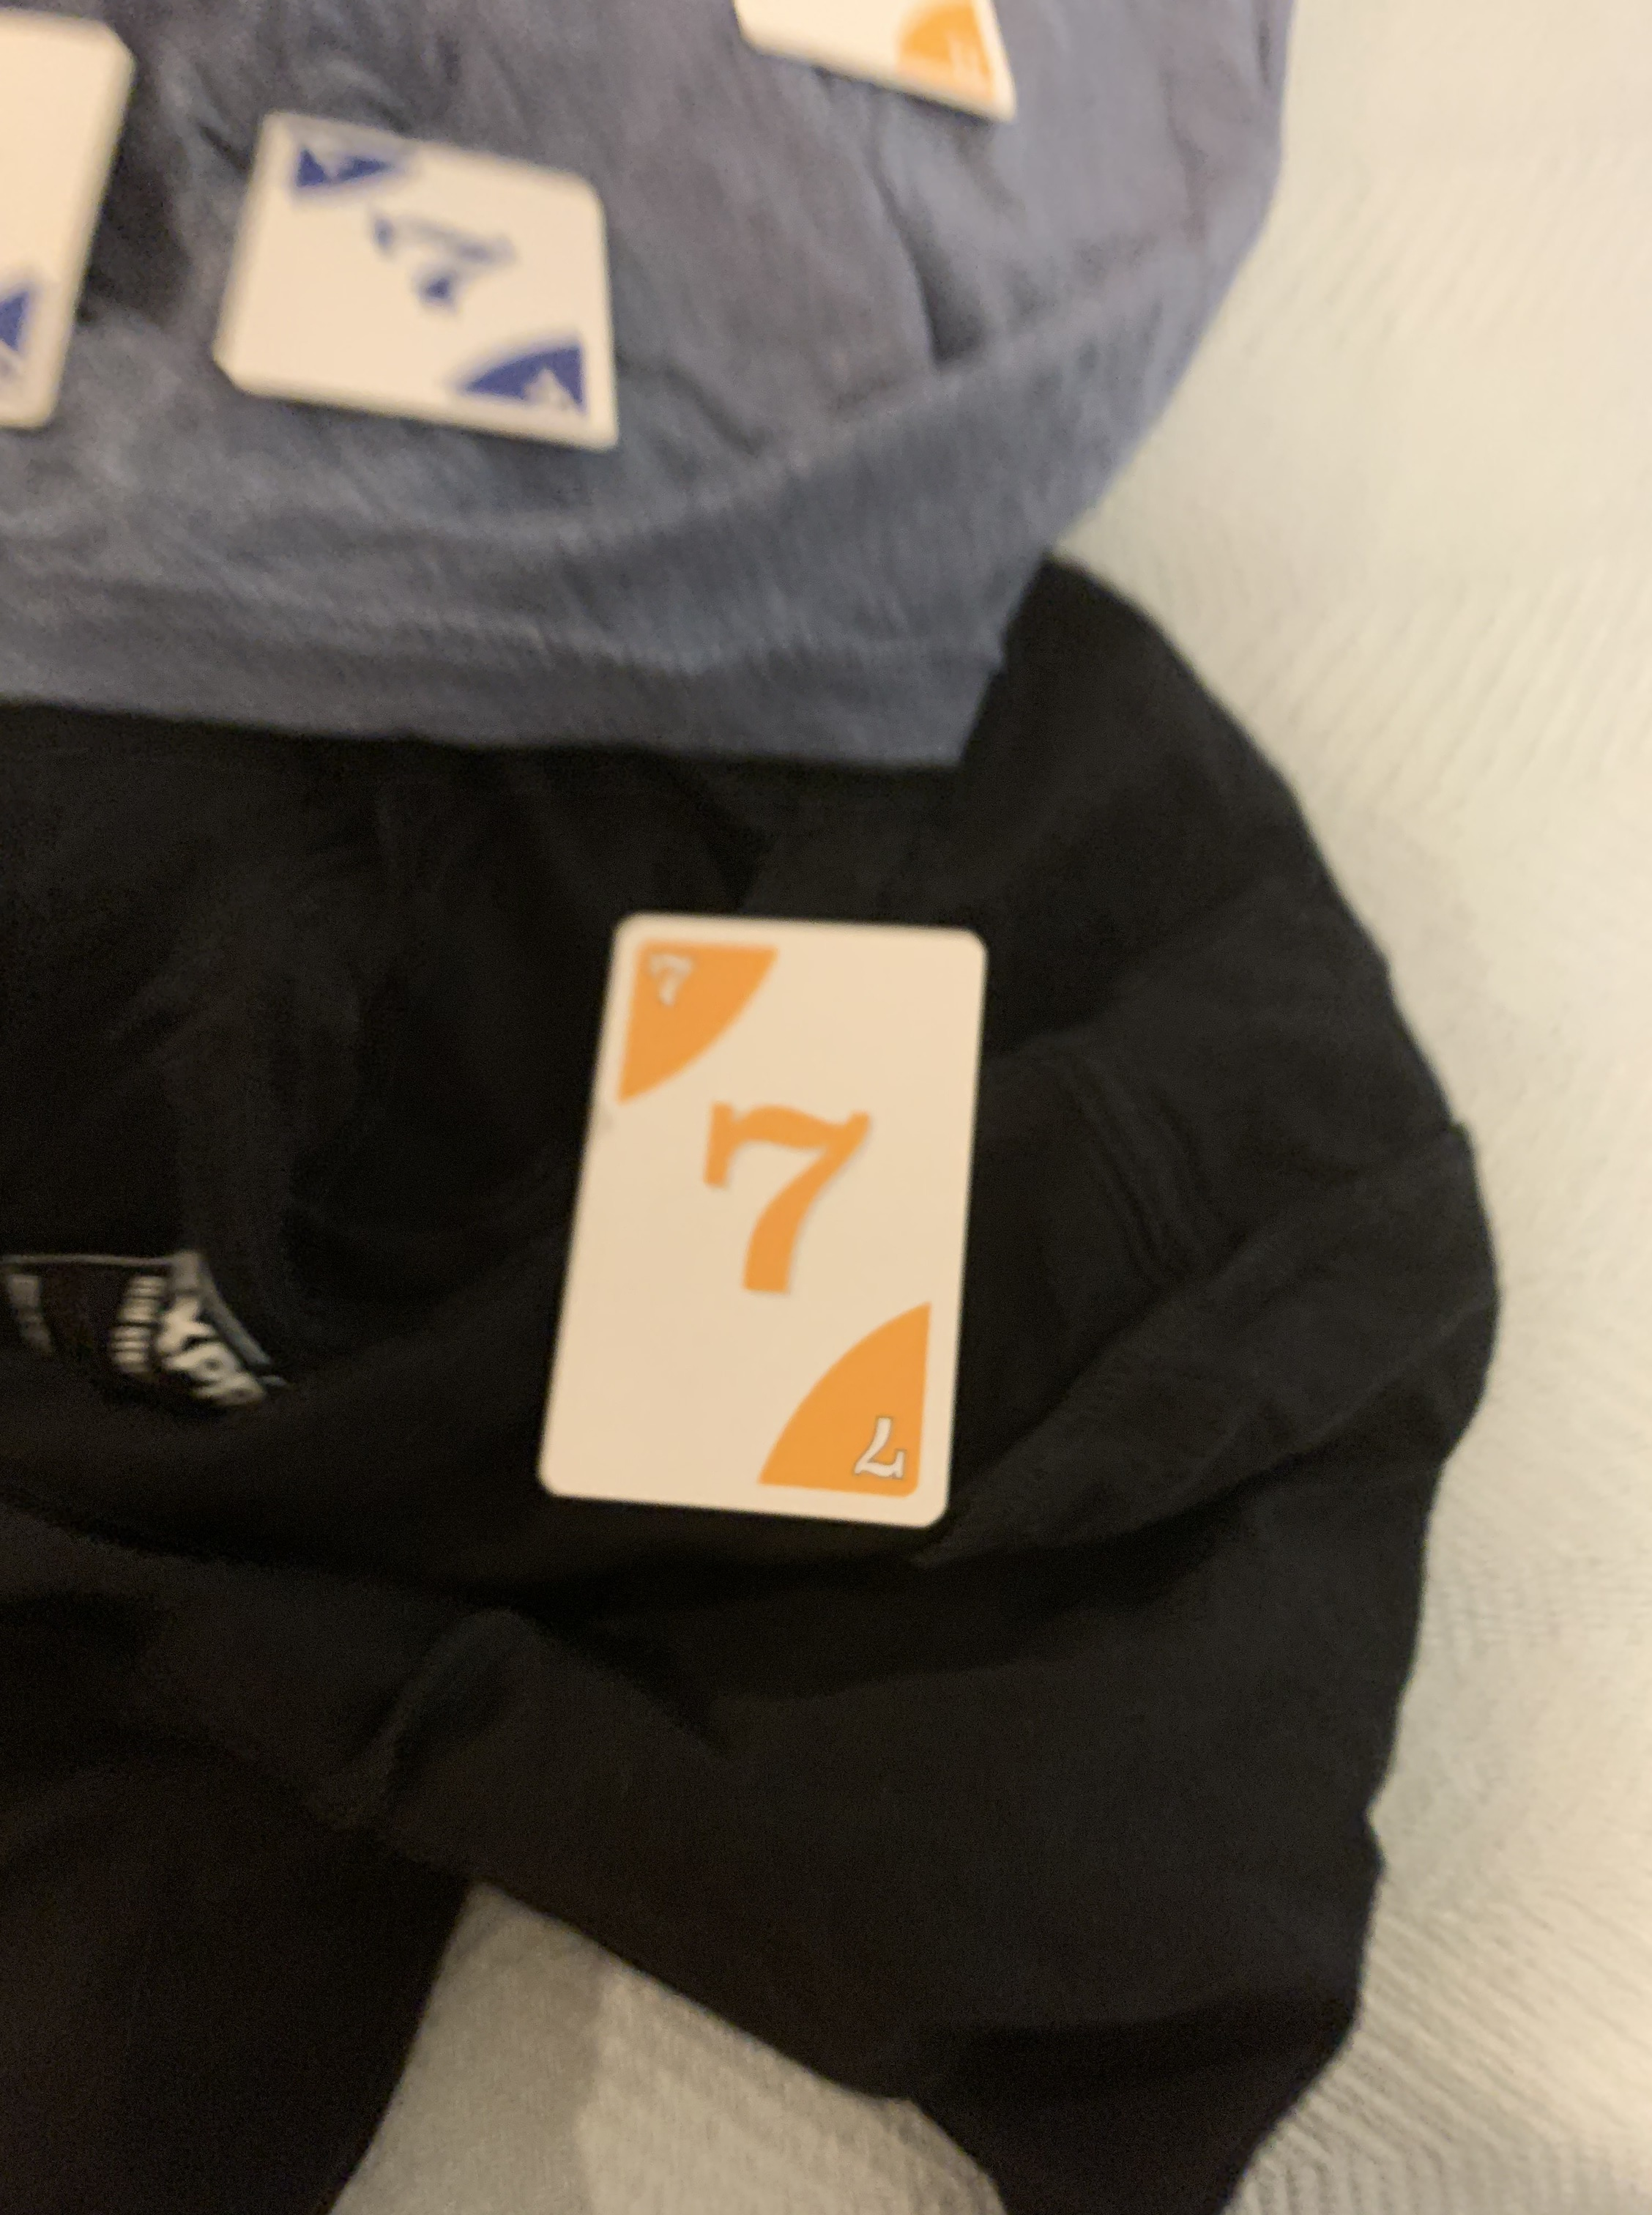seven: (500, 892, 986, 1531)
